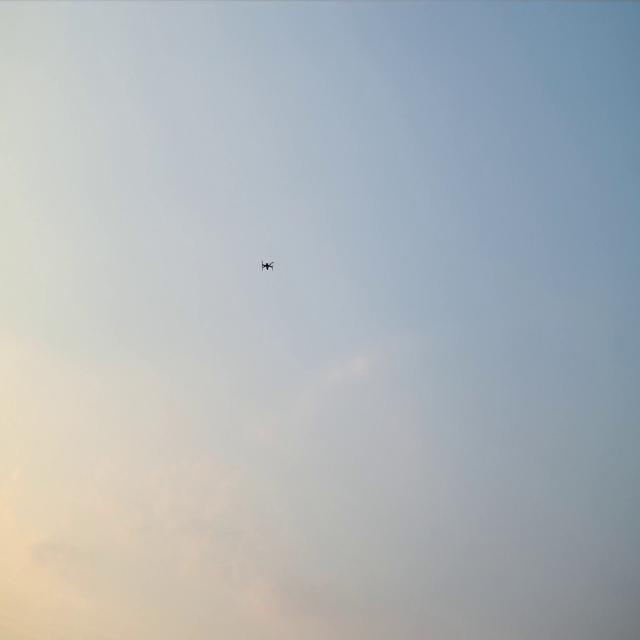UAV: (262, 262, 272, 270)
